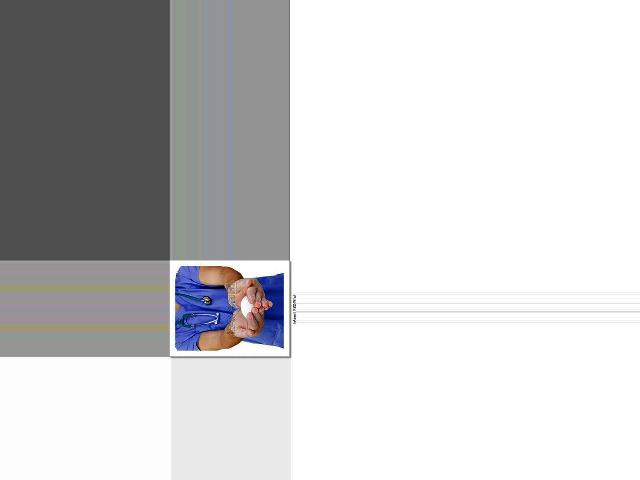egg: (240, 296, 254, 318)
